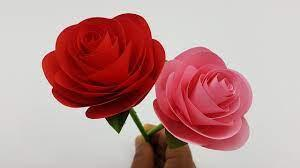Rose: (36, 10, 167, 122), (156, 40, 253, 153)
